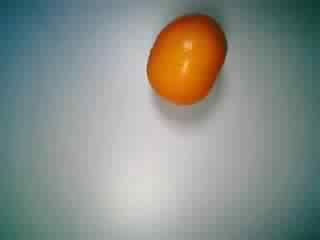orange: (136, 10, 232, 106)
